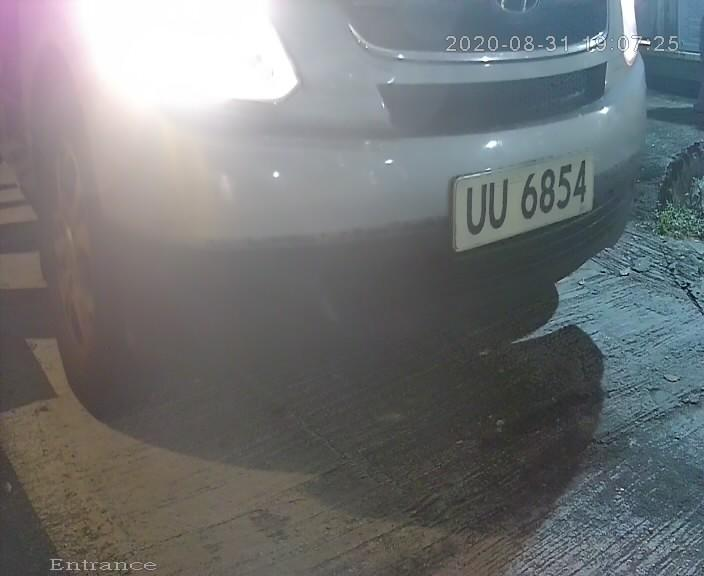License Plate: (441, 139, 595, 258)
